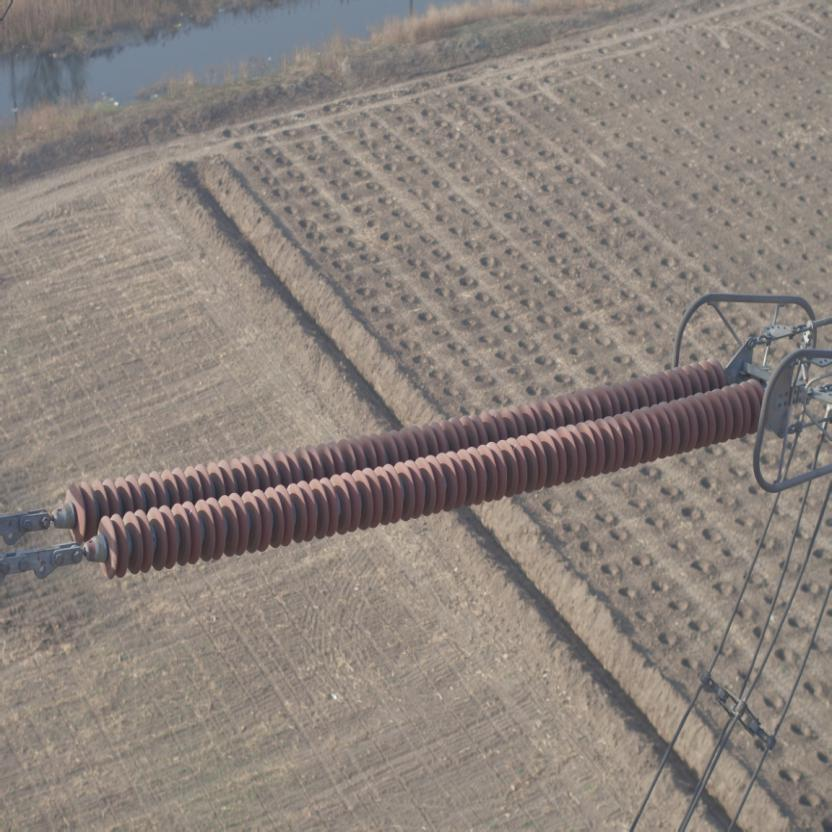insulator: (25, 350, 780, 584)
